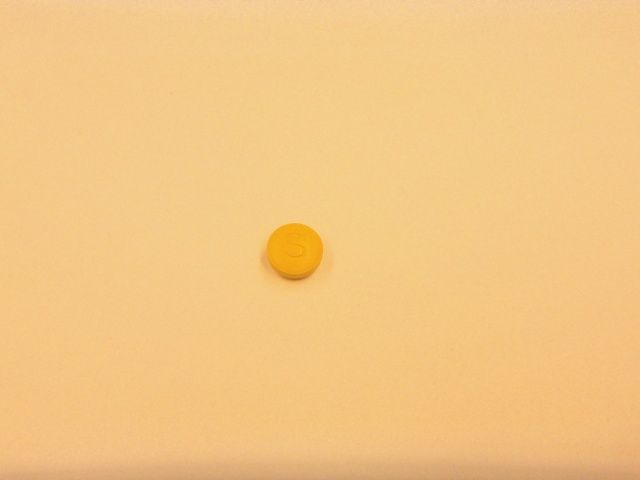S: (283, 228, 312, 262)
